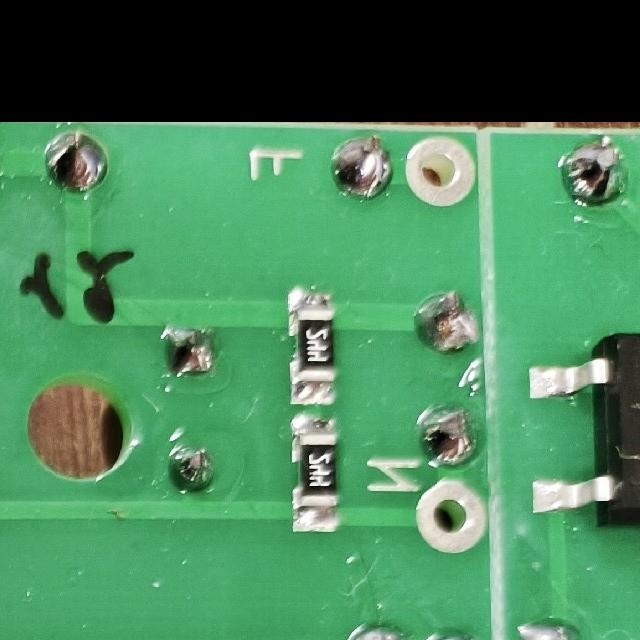chip-resistor: (287, 413, 342, 535), (285, 283, 339, 405)
ic: (521, 328, 640, 533)
